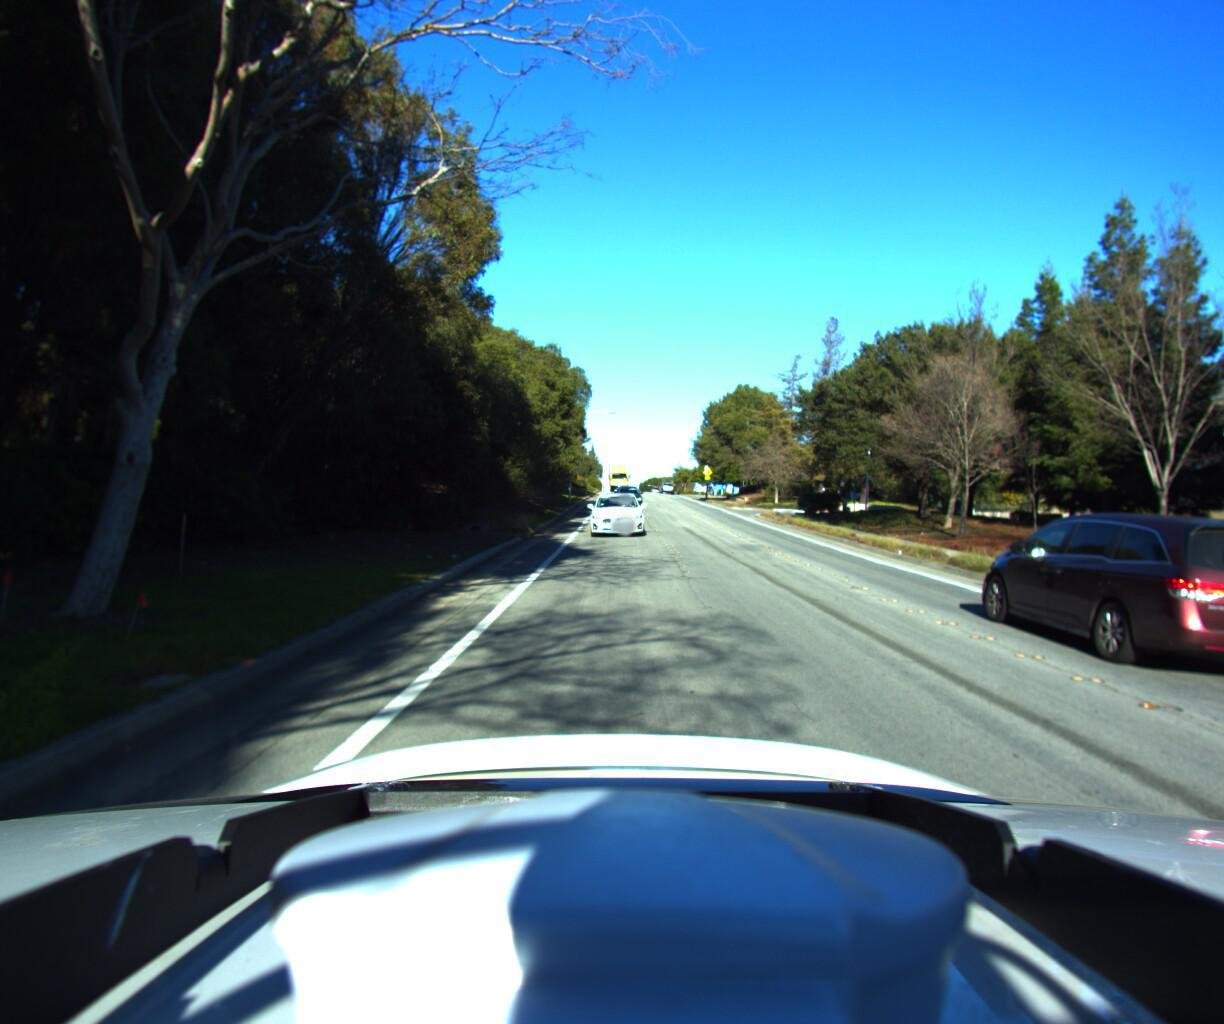car: (938, 493, 1224, 667), (583, 482, 648, 540)
